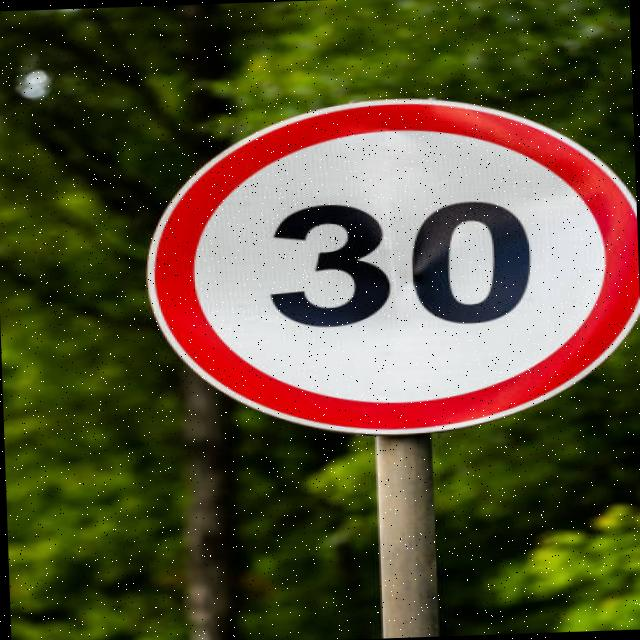speed_limit_30: (129, 77, 640, 442)
